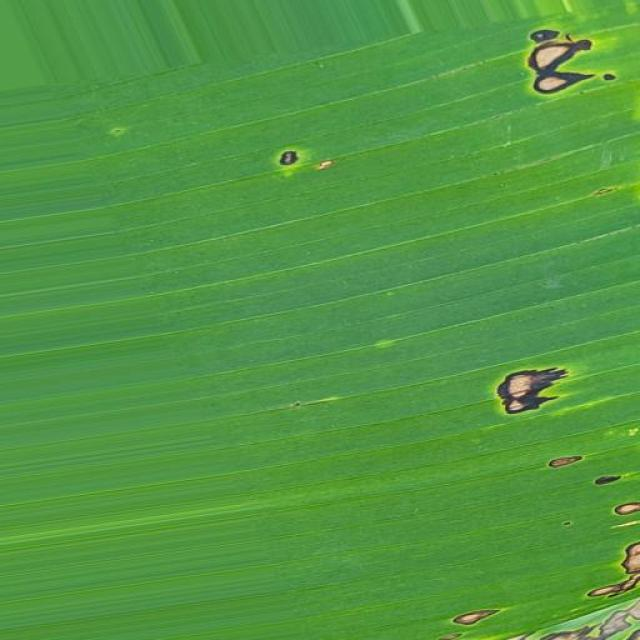Early_rust: (455, 333, 640, 640), (511, 1, 640, 138), (247, 118, 349, 215)
